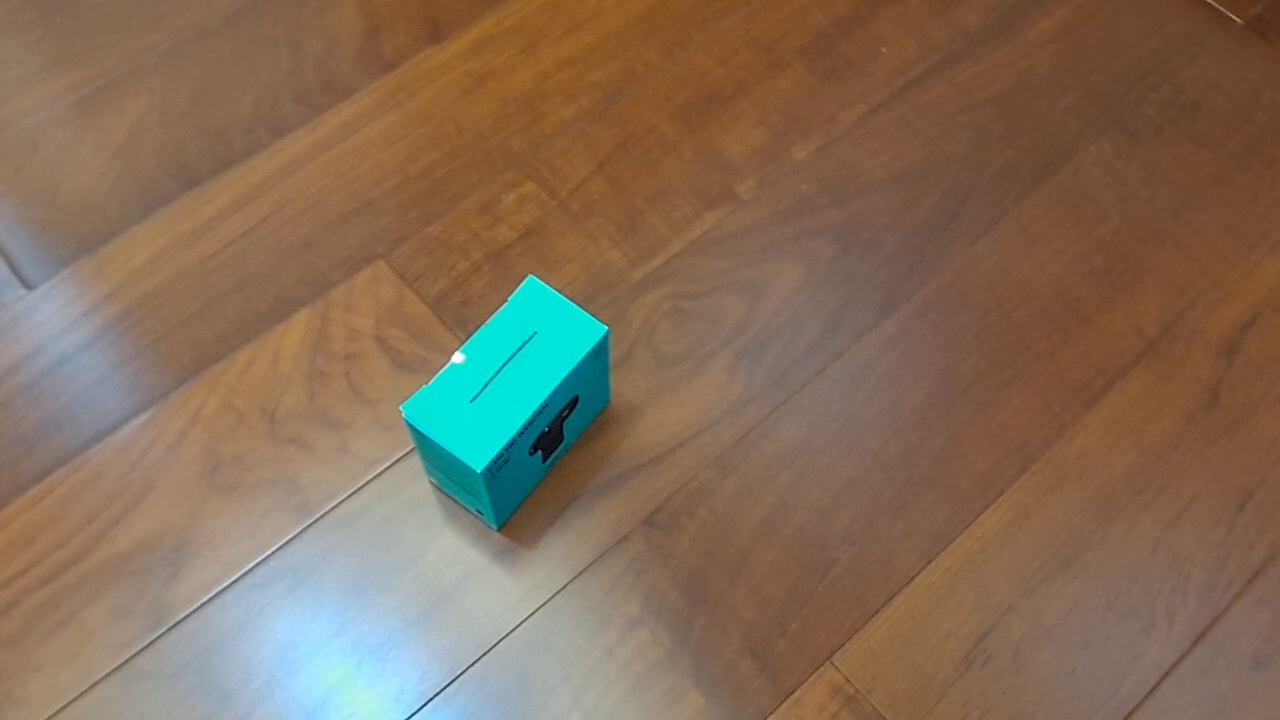webcam: (397, 270, 613, 533)
